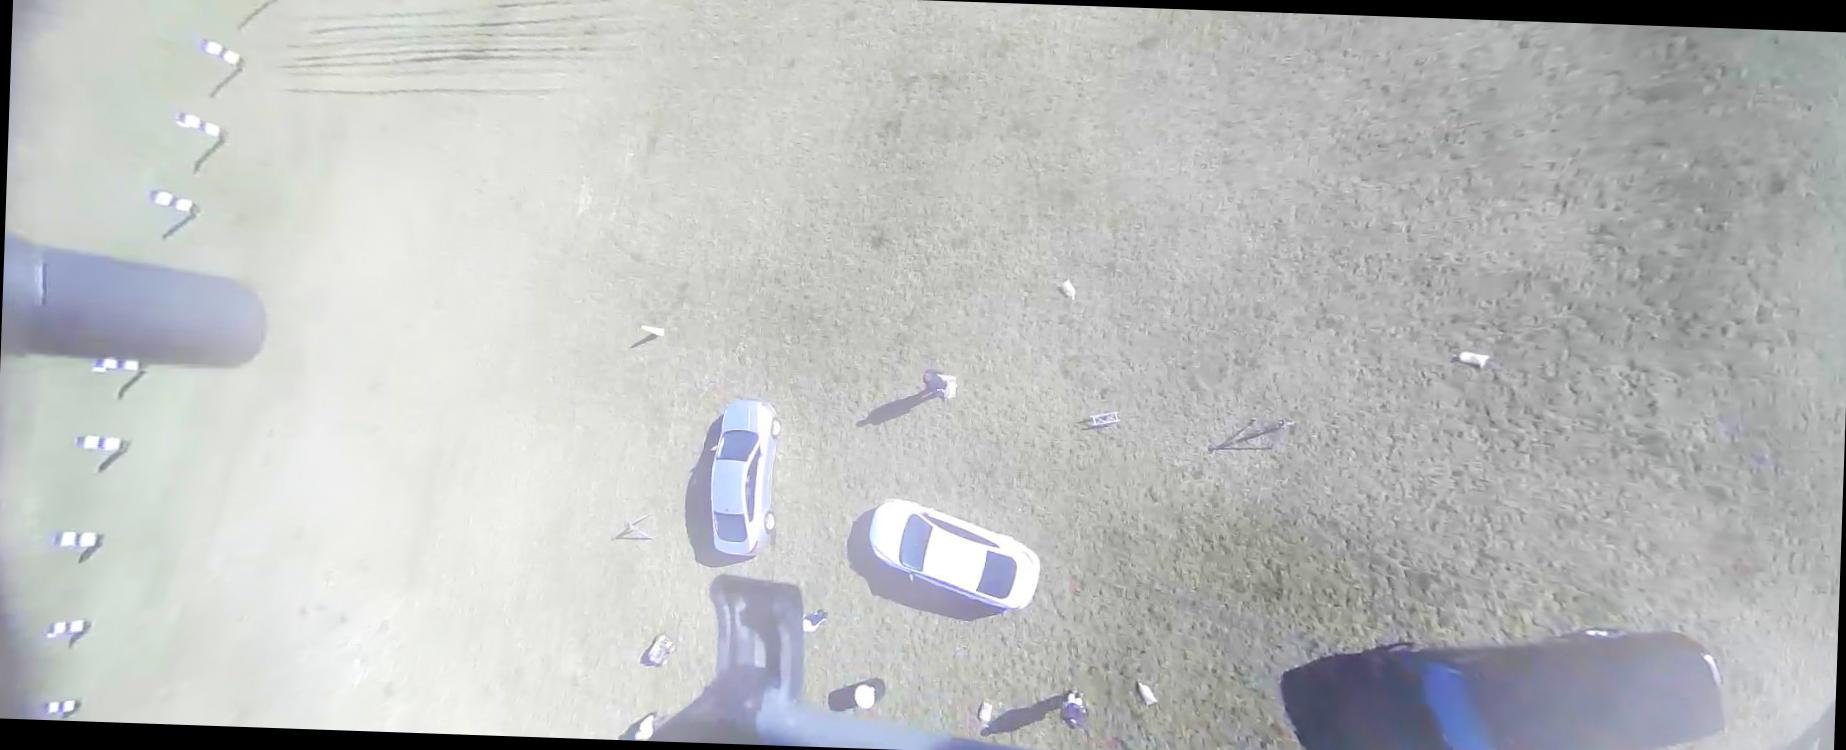vehicle: (1358, 616, 1732, 749), (866, 497, 1044, 611), (707, 397, 783, 557)
